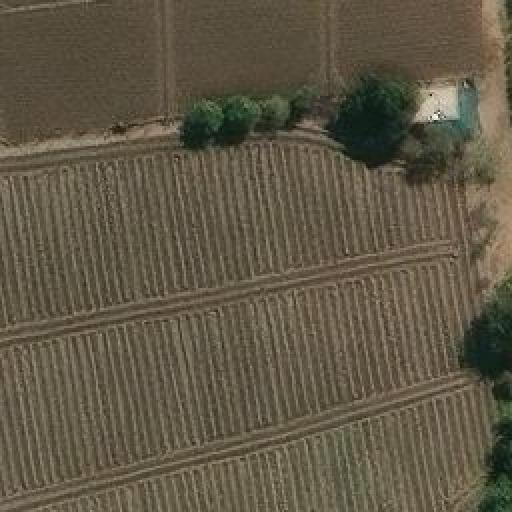manzanas: (399, 72, 469, 127)
